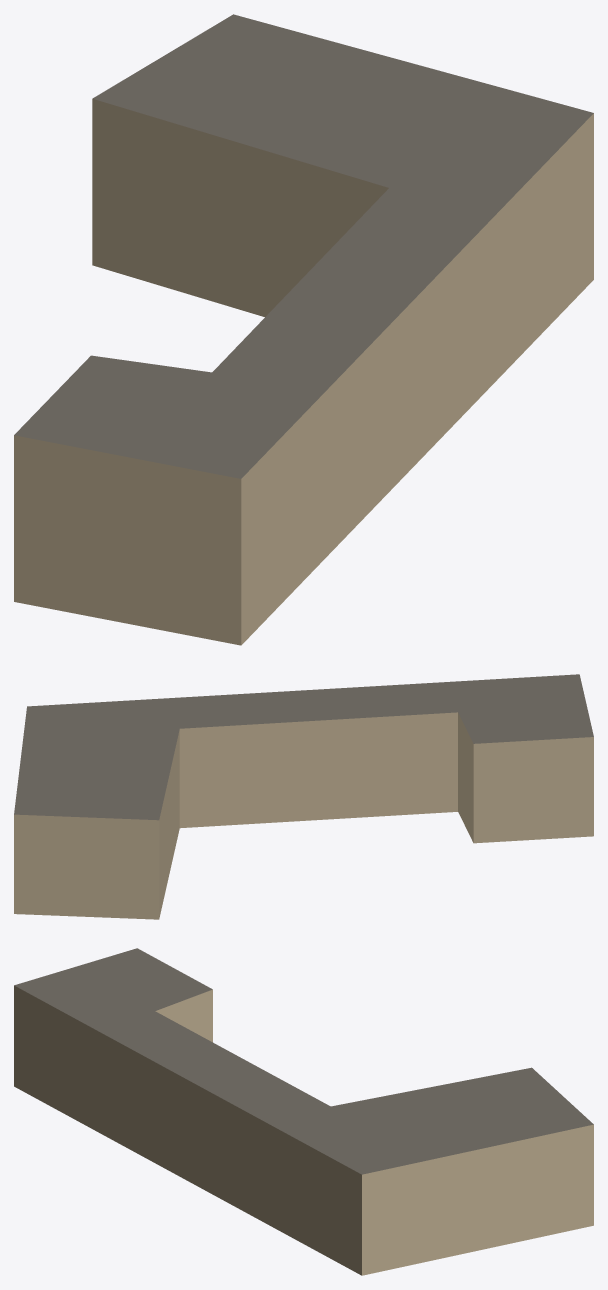
The picture shows the model from 3 angles, top to bottom: view 1: azimuth 30°, elevation 25°; view 2: azimuth 150°, elevation 25°; view 3: azimuth 270°, elevation 25°; orthographic projection. The views are drawn at different scales.
Parts seen in each view (by area): view 1: HP-w1331250273; view 2: HP-w1331250273; view 3: HP-w1331250273.
Boxes of the visible parts, x1,y1,x2,y2 form: HP-w1331250273: (14, 14, 593, 645); HP-w1331250273: (14, 674, 593, 919); HP-w1331250273: (14, 948, 593, 1275).
Bounding box in the file's own units: 63.41 × 13.2 × 68.62.
